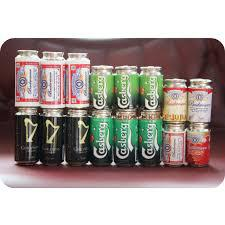beer: (12, 49, 214, 170)
